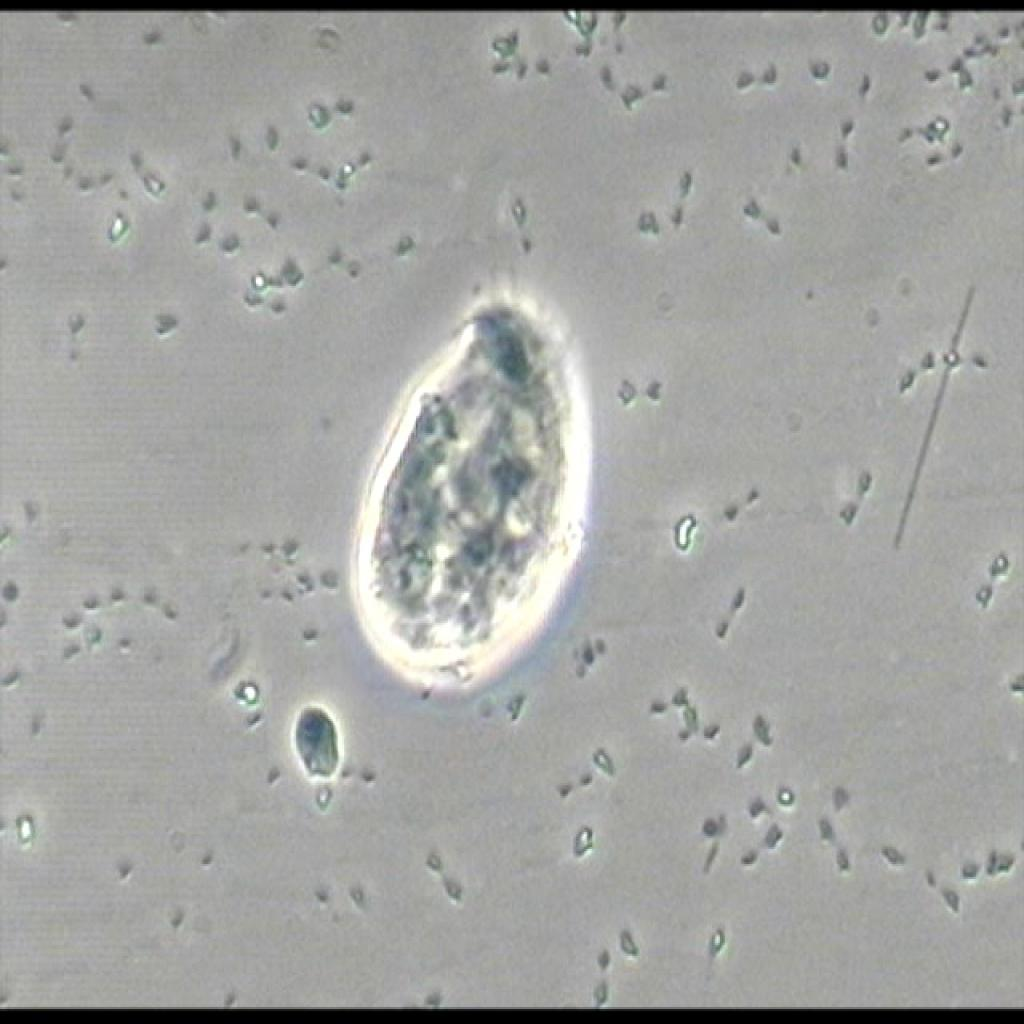Chilodonella: (351, 200, 601, 728)
